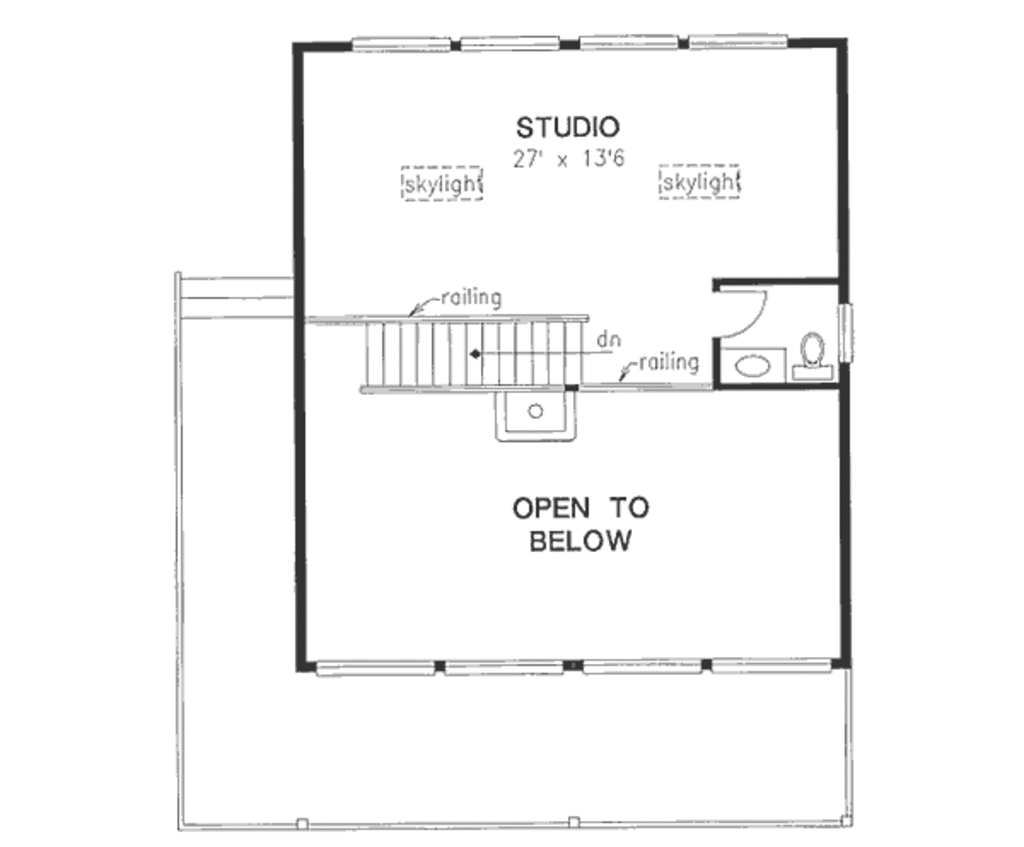door: (716, 284, 770, 340)
large_sink: (791, 323, 840, 381)
small_sink: (720, 349, 790, 392)
stairs: (313, 319, 619, 391)
window: (445, 653, 568, 679), (582, 654, 710, 677), (711, 657, 838, 677), (349, 33, 453, 56), (314, 658, 440, 675), (577, 33, 682, 53), (689, 31, 794, 50), (464, 33, 561, 53), (838, 302, 856, 362)
